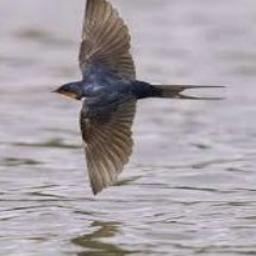Swallow: (52, 0, 229, 196)
